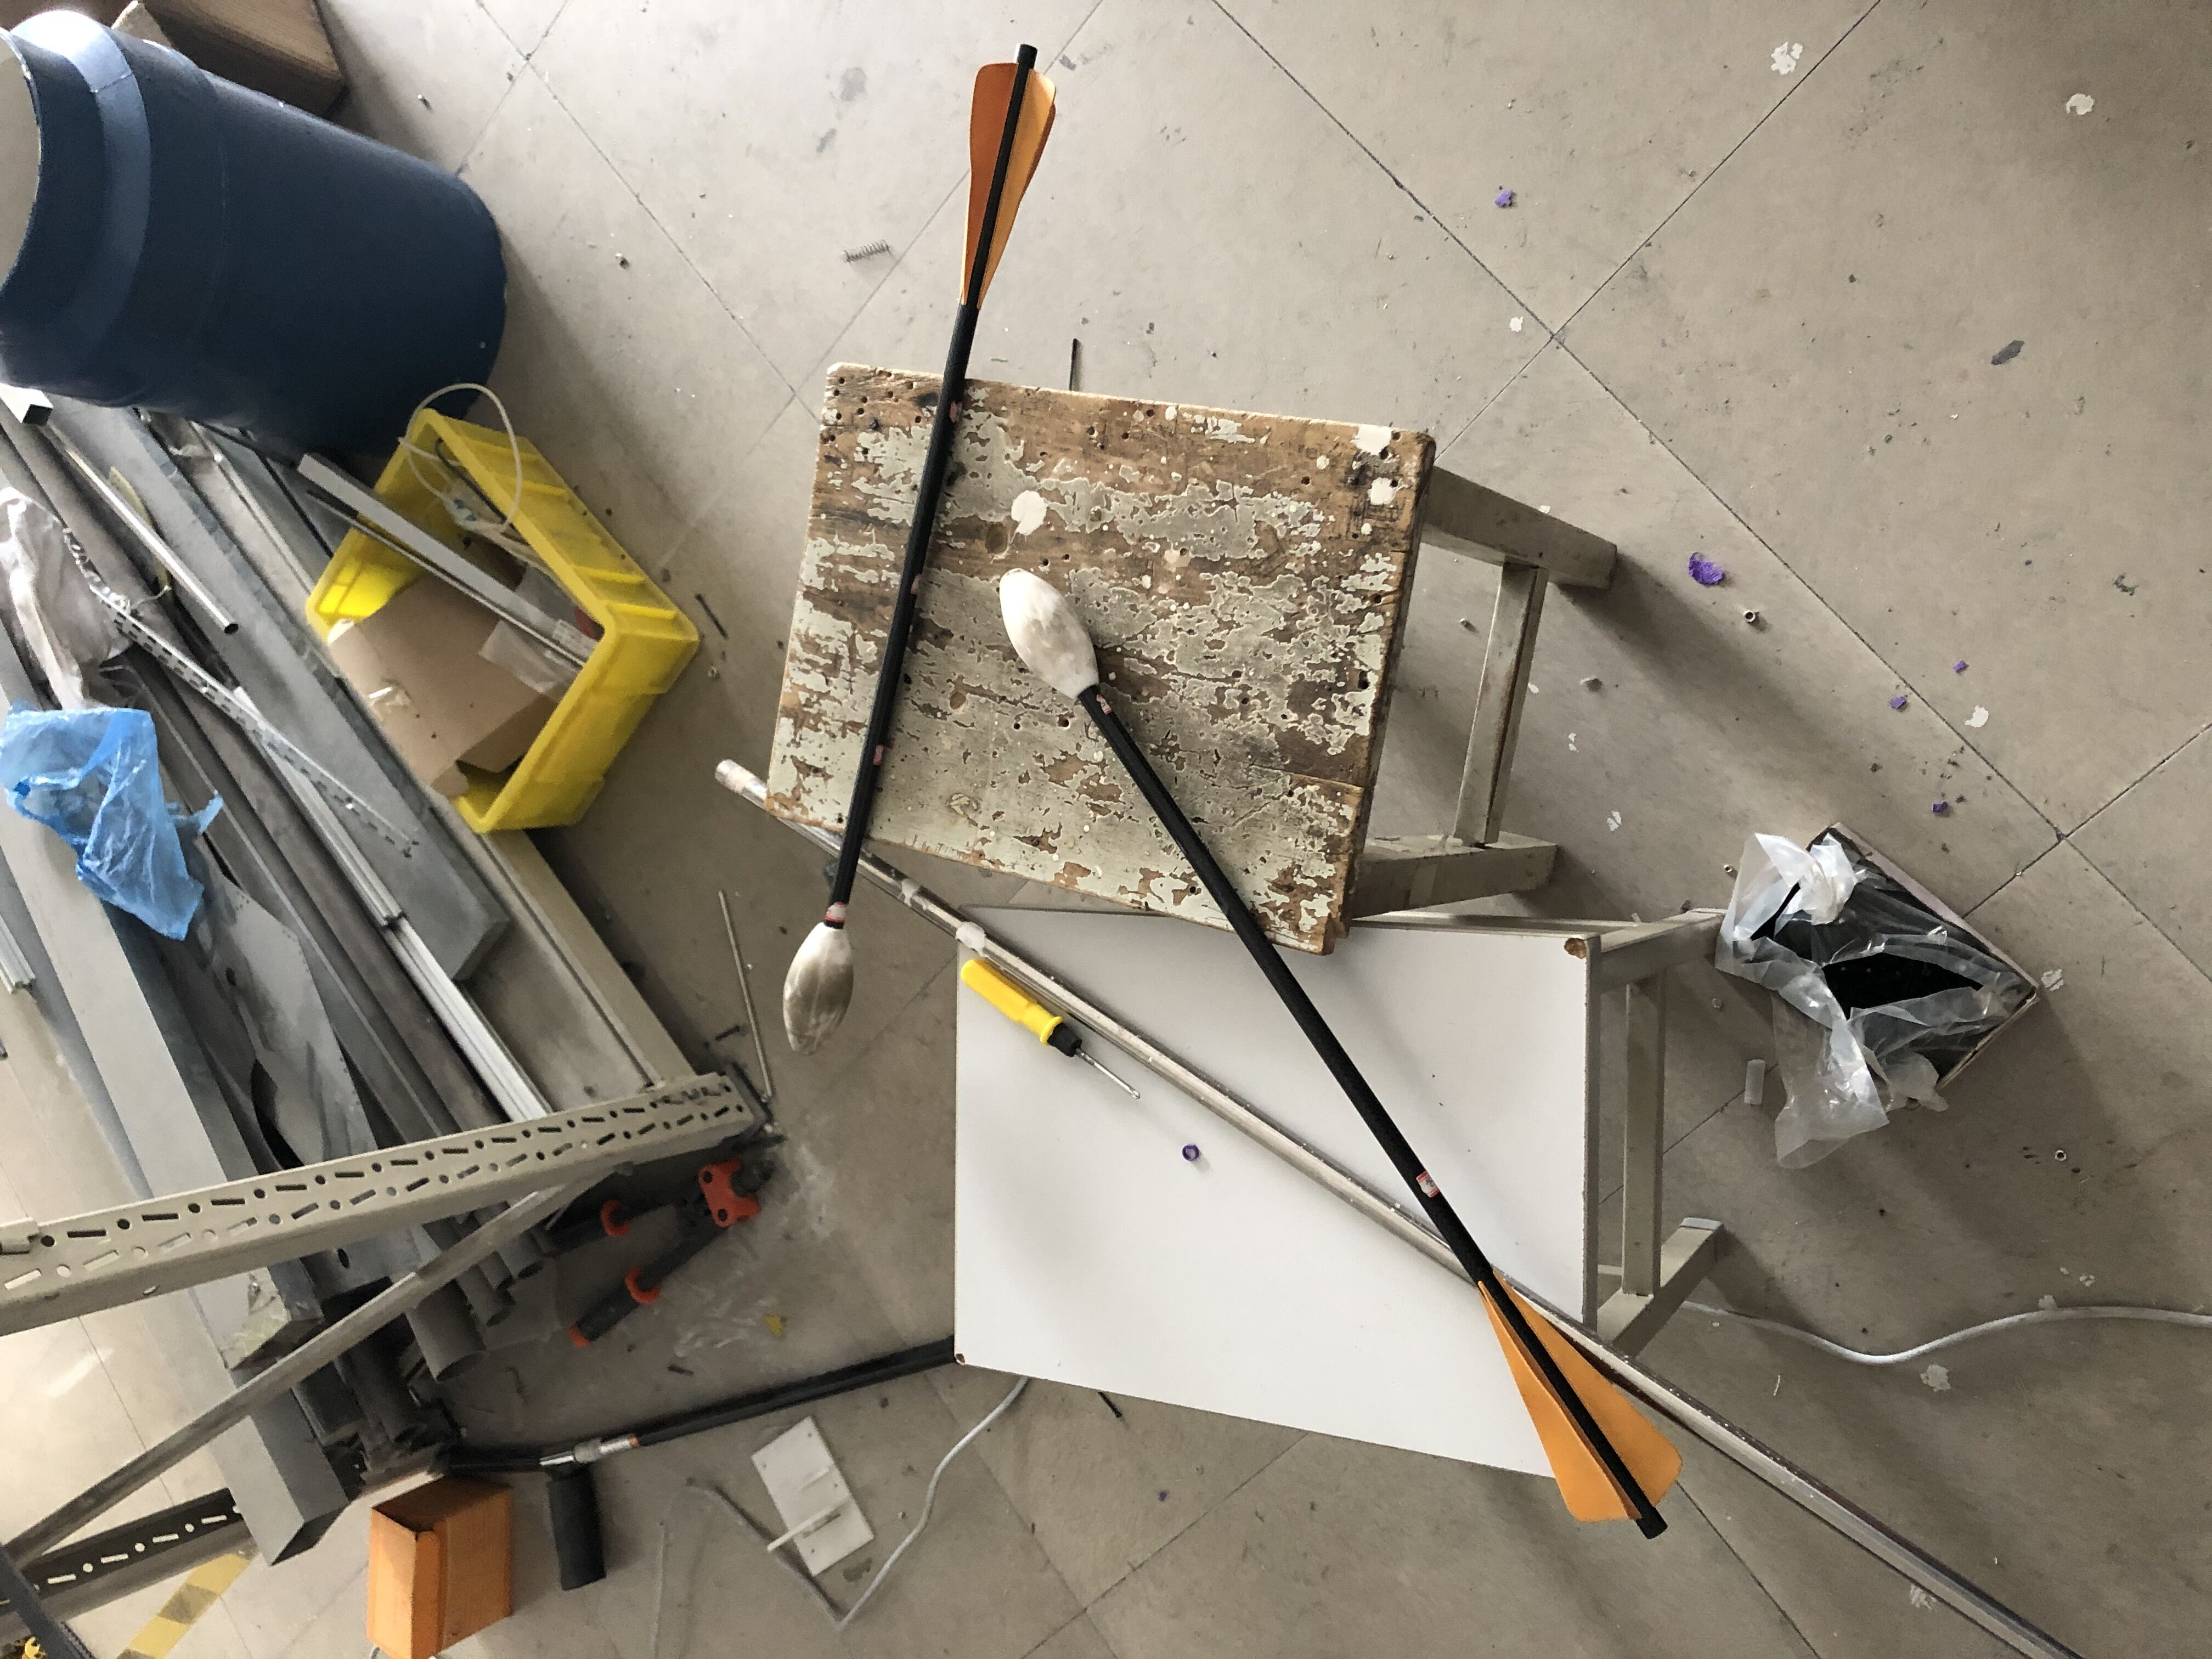arrow: (998, 566, 1683, 1537), (782, 44, 1061, 1047)
arrowFront: (1000, 565, 1103, 701), (780, 924, 855, 1047)
